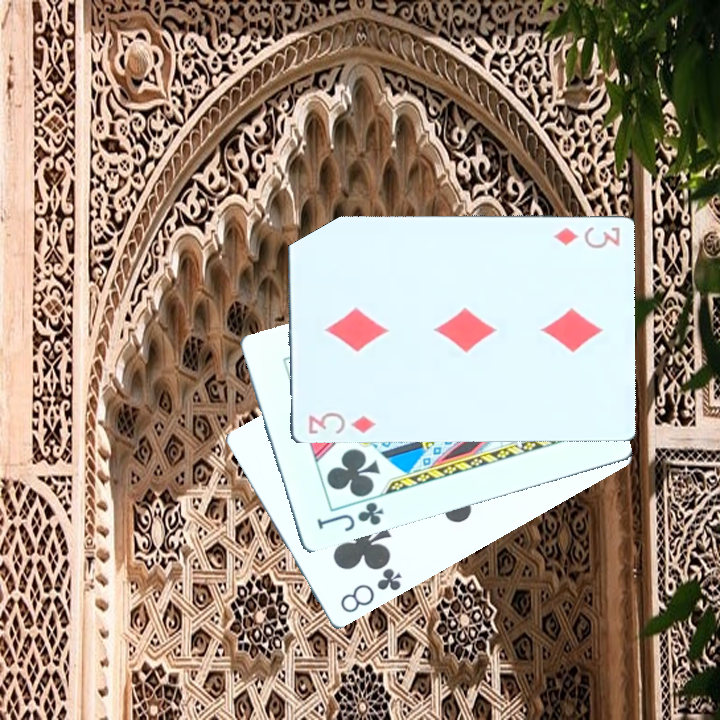3d: (304, 408, 379, 436), (550, 223, 623, 251)
8c: (336, 563, 405, 616)
Jc: (312, 490, 386, 534)
